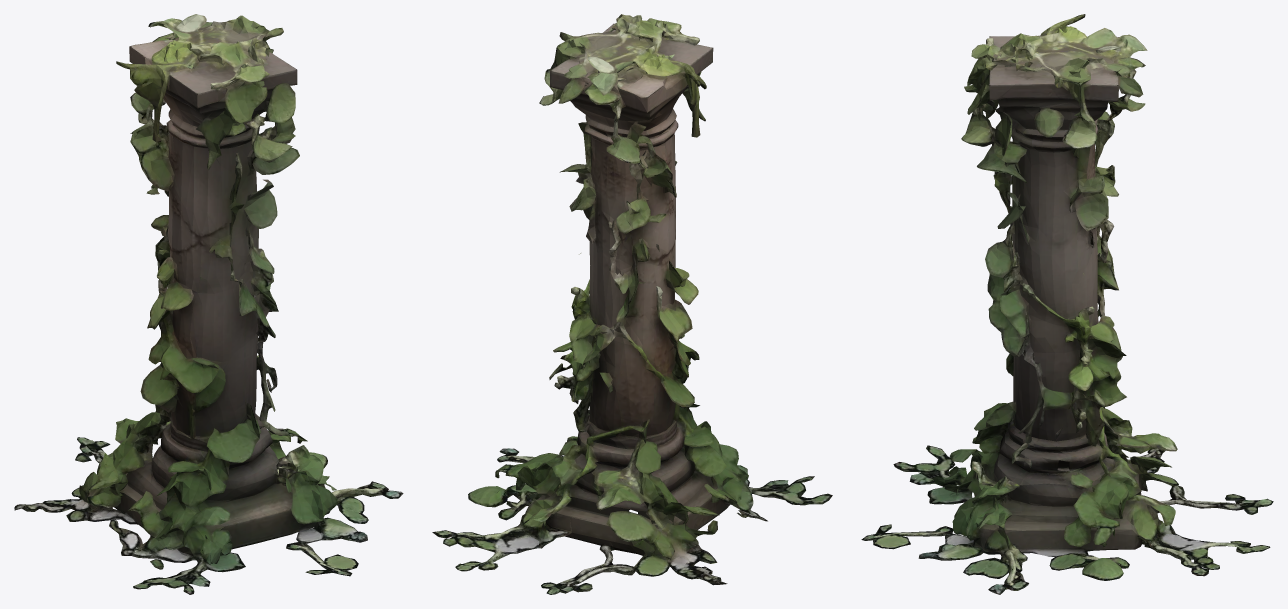
File: generated_column_broken.glb
The picture shows the model from 3 angles, left to right: view 1: azimuth 30°, elevation 25°; view 2: azimuth 150°, elevation 25°; view 3: azimuth 270°, elevation 25°; orthographic projection.
Visible parts, largest first — view 1: geometry_0; view 2: geometry_0; view 3: geometry_0.
Part boxes in pixels (x1,y1,x2,y2): geometry_0: (14,14,403,594); geometry_0: (432,14,832,594); geometry_0: (861,14,1273,594).
Bounding box in the file's own units: 0.6654 × 0.9981 × 0.7675.
1 material, 1 textured.
